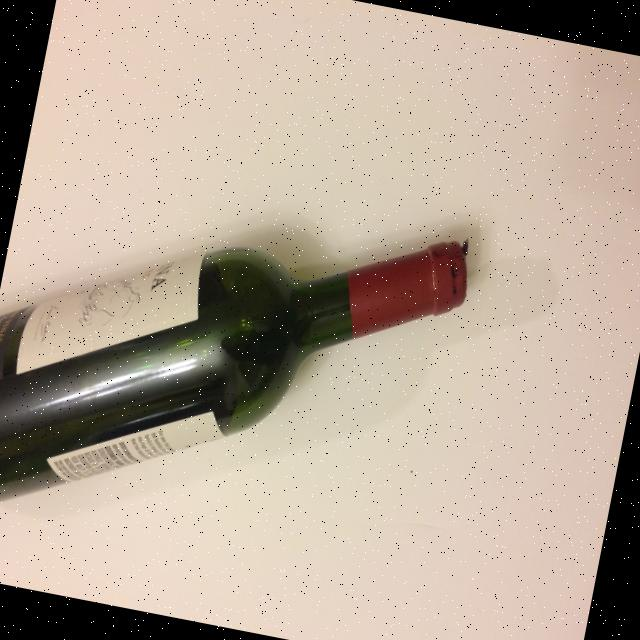glass: (0, 151, 477, 584)
